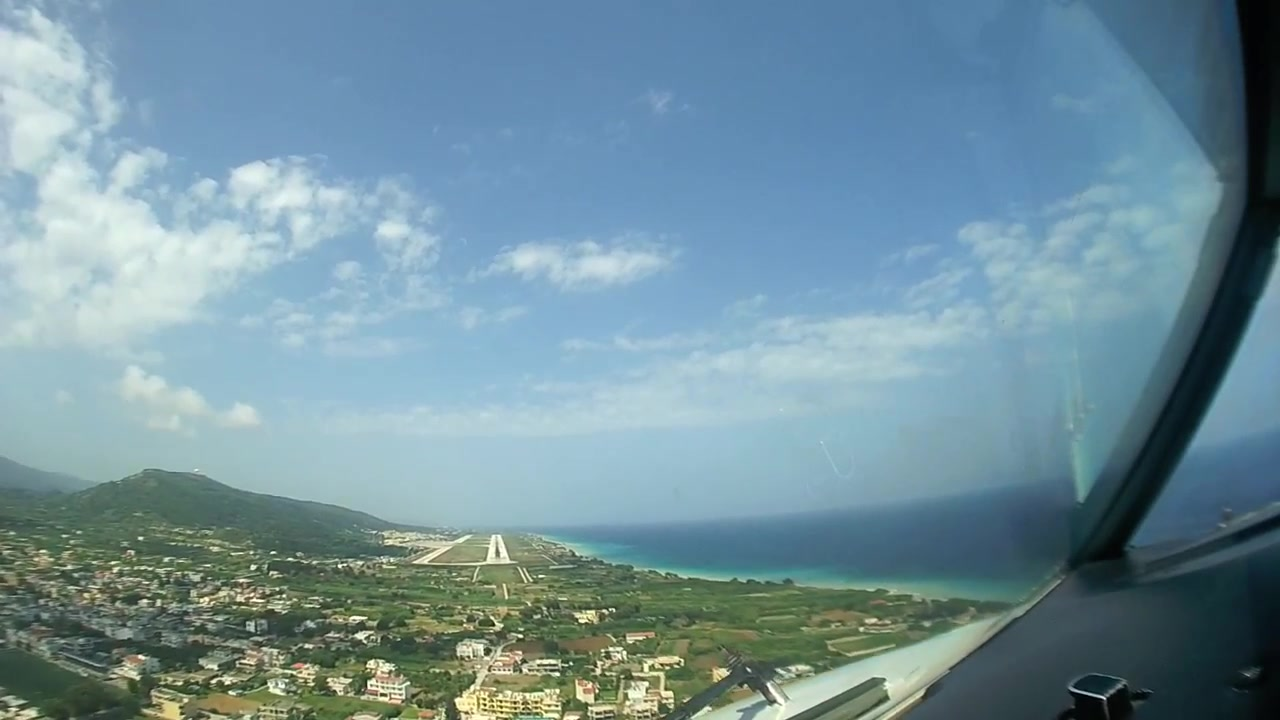runway: (485, 534, 512, 565)
